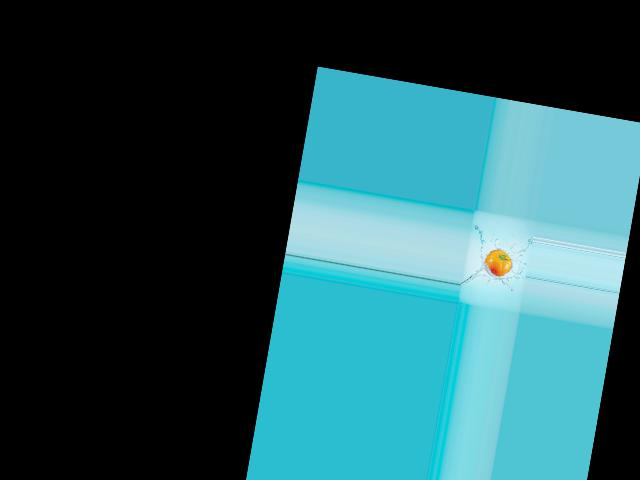tomato: (482, 247, 514, 278)
